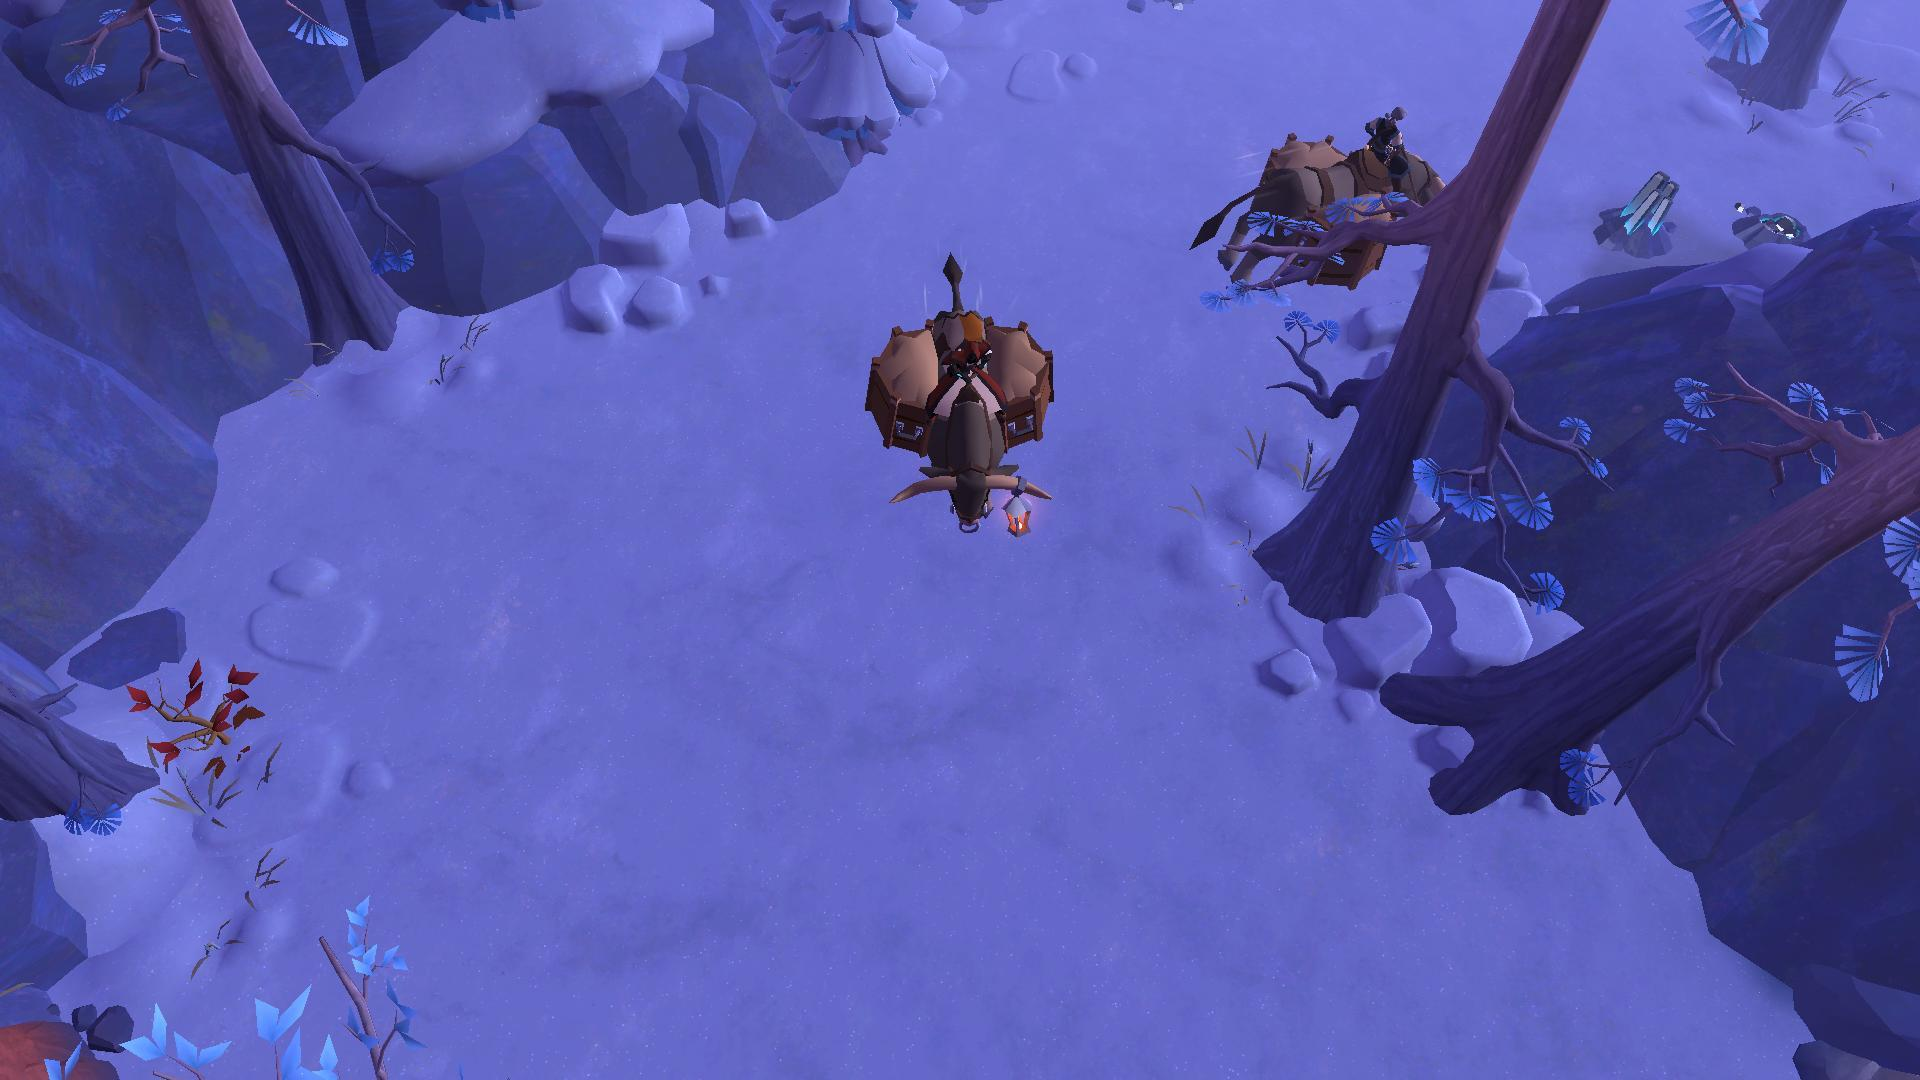ore_t4: (1613, 171, 1683, 239)
rock_t5: (0, 1006, 127, 1080)
